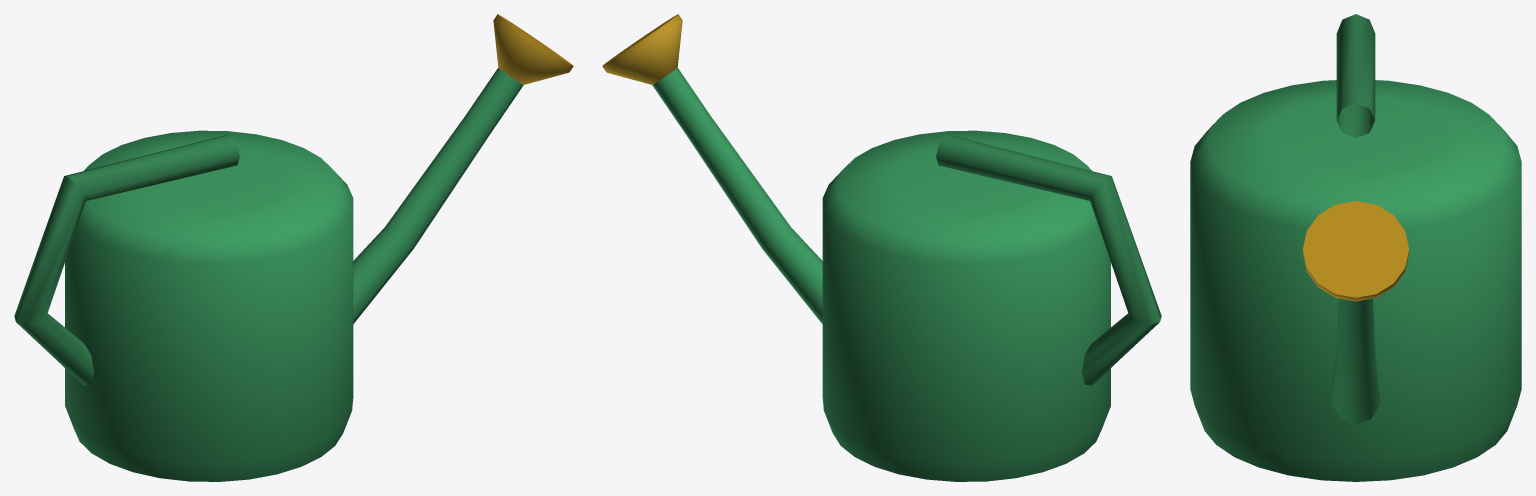
The model's file is Park_WateringCan.fbx.
3 views of the same model, side by side, from view 1: azimuth 30°, elevation 25°; view 2: azimuth 150°, elevation 25°; view 3: azimuth 270°, elevation 25° (orthographic). The views are drawn at different scales.
Visible parts, largest first — view 1: Park_WateringCan; view 2: Park_WateringCan; view 3: Park_WateringCan.
Boxes of the visible parts, bbox=[...] form: Park_WateringCan: bbox=[14, 14, 573, 481]; Park_WateringCan: bbox=[602, 14, 1161, 481]; Park_WateringCan: bbox=[1190, 14, 1521, 481].
Size of the model in its own units: 4.92 by 2.84 by 2.24.
